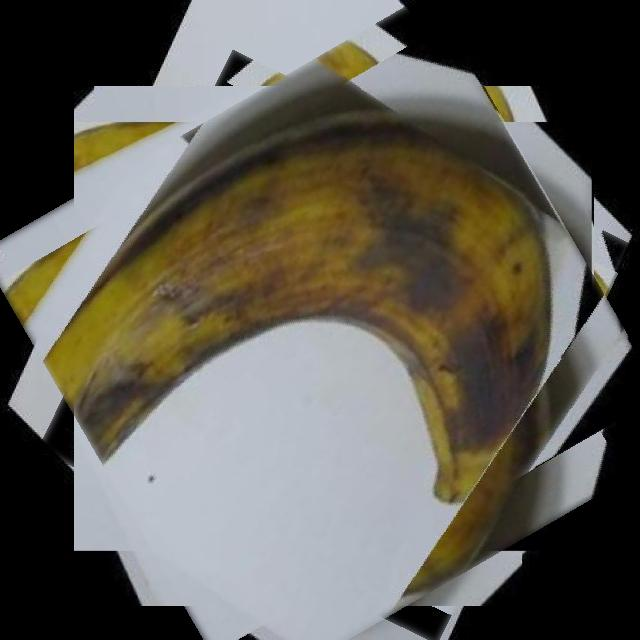Execivamente Madura: (27, 39, 640, 640)
